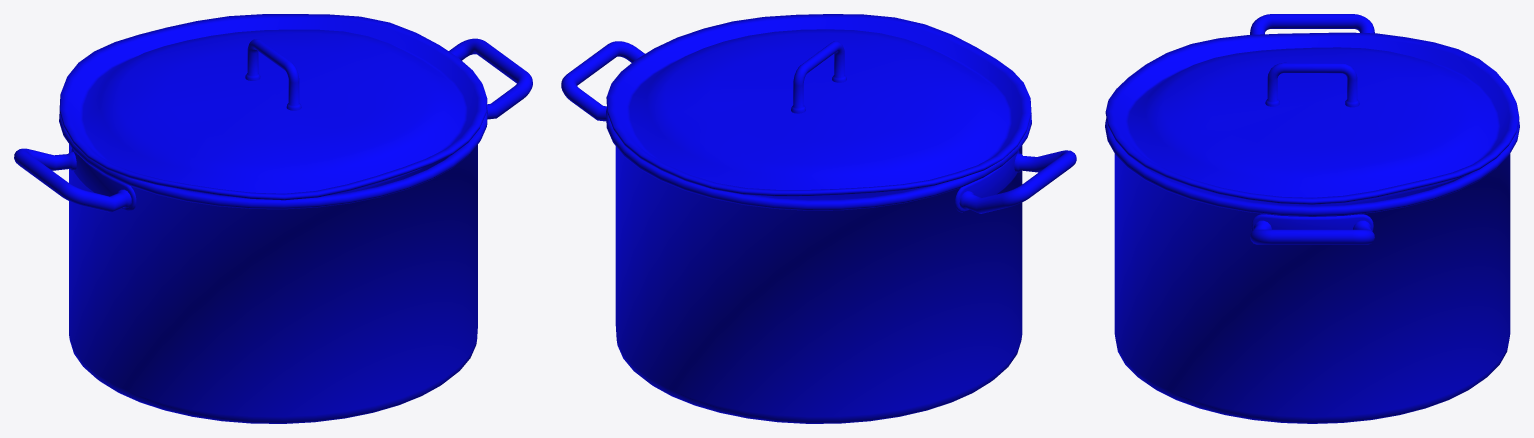
File: Caldron.FBX
3 views of the same model, side by side, from view 1: azimuth 30°, elevation 25°; view 2: azimuth 150°, elevation 25°; view 3: azimuth 270°, elevation 25° (orthographic). The views are drawn at different scales.
Parts seen in each view (by area): view 1: caldron, caldron_CUP; view 2: caldron, caldron_CUP; view 3: caldron, caldron_CUP.
Boxes of the visible parts, x1,y1,x2,y2 form: caldron: [14, 38, 532, 423]; caldron_CUP: [59, 14, 487, 200]; caldron: [561, 41, 1076, 423]; caldron_CUP: [606, 14, 1031, 199]; caldron: [1105, 14, 1519, 423]; caldron_CUP: [1105, 32, 1519, 206].
Size of the model in its own units: 60.15 by 35.59 by 47.52.
